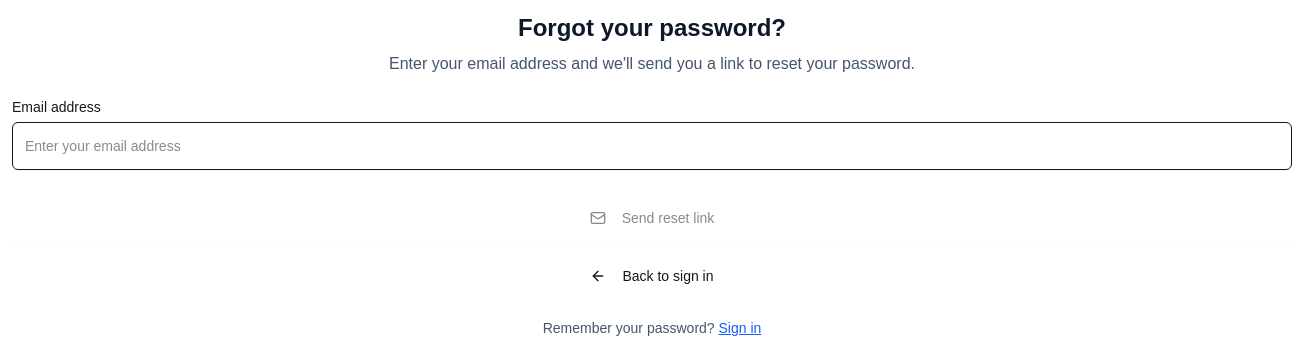
Test case: Password Reset Flow › ForgotPasswordForm › validates email input correctly
Test invalid email
Type "invalid-email" into the field labelled "Email address".
click(652, 146); type("invalid-email")  # box x1=12 y1=122 x2=1292 y2=170
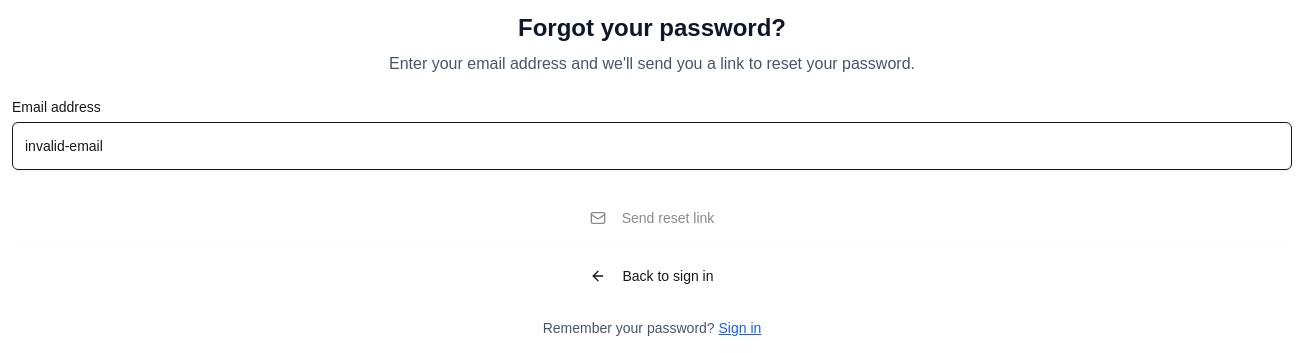
Check: the button "Send reset link" is disabled, box x1=12 y1=194 x2=1292 y2=242
Test valid email
Replace the text in the field labelled "Email address" with "test@example.com" at (652, 146), box x1=12 y1=122 x2=1292 y2=170
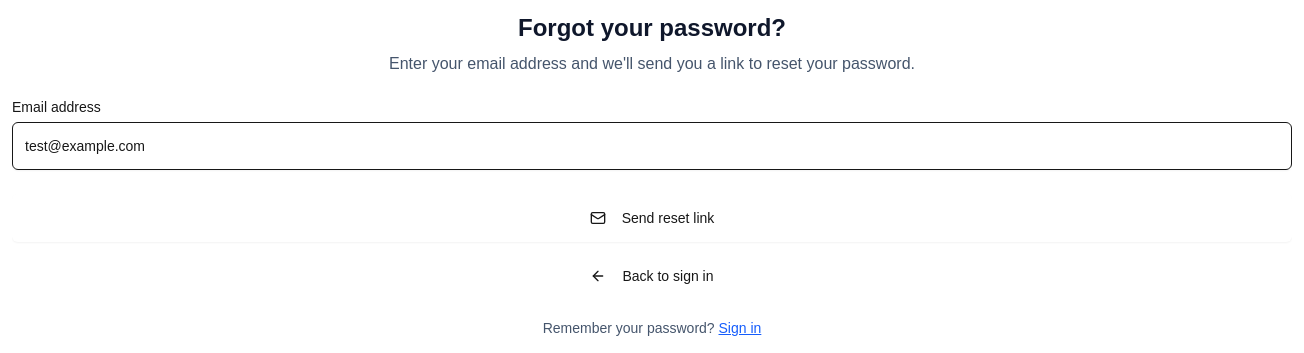
Check: the button "Send reset link" is enabled, box x1=12 y1=194 x2=1292 y2=242
